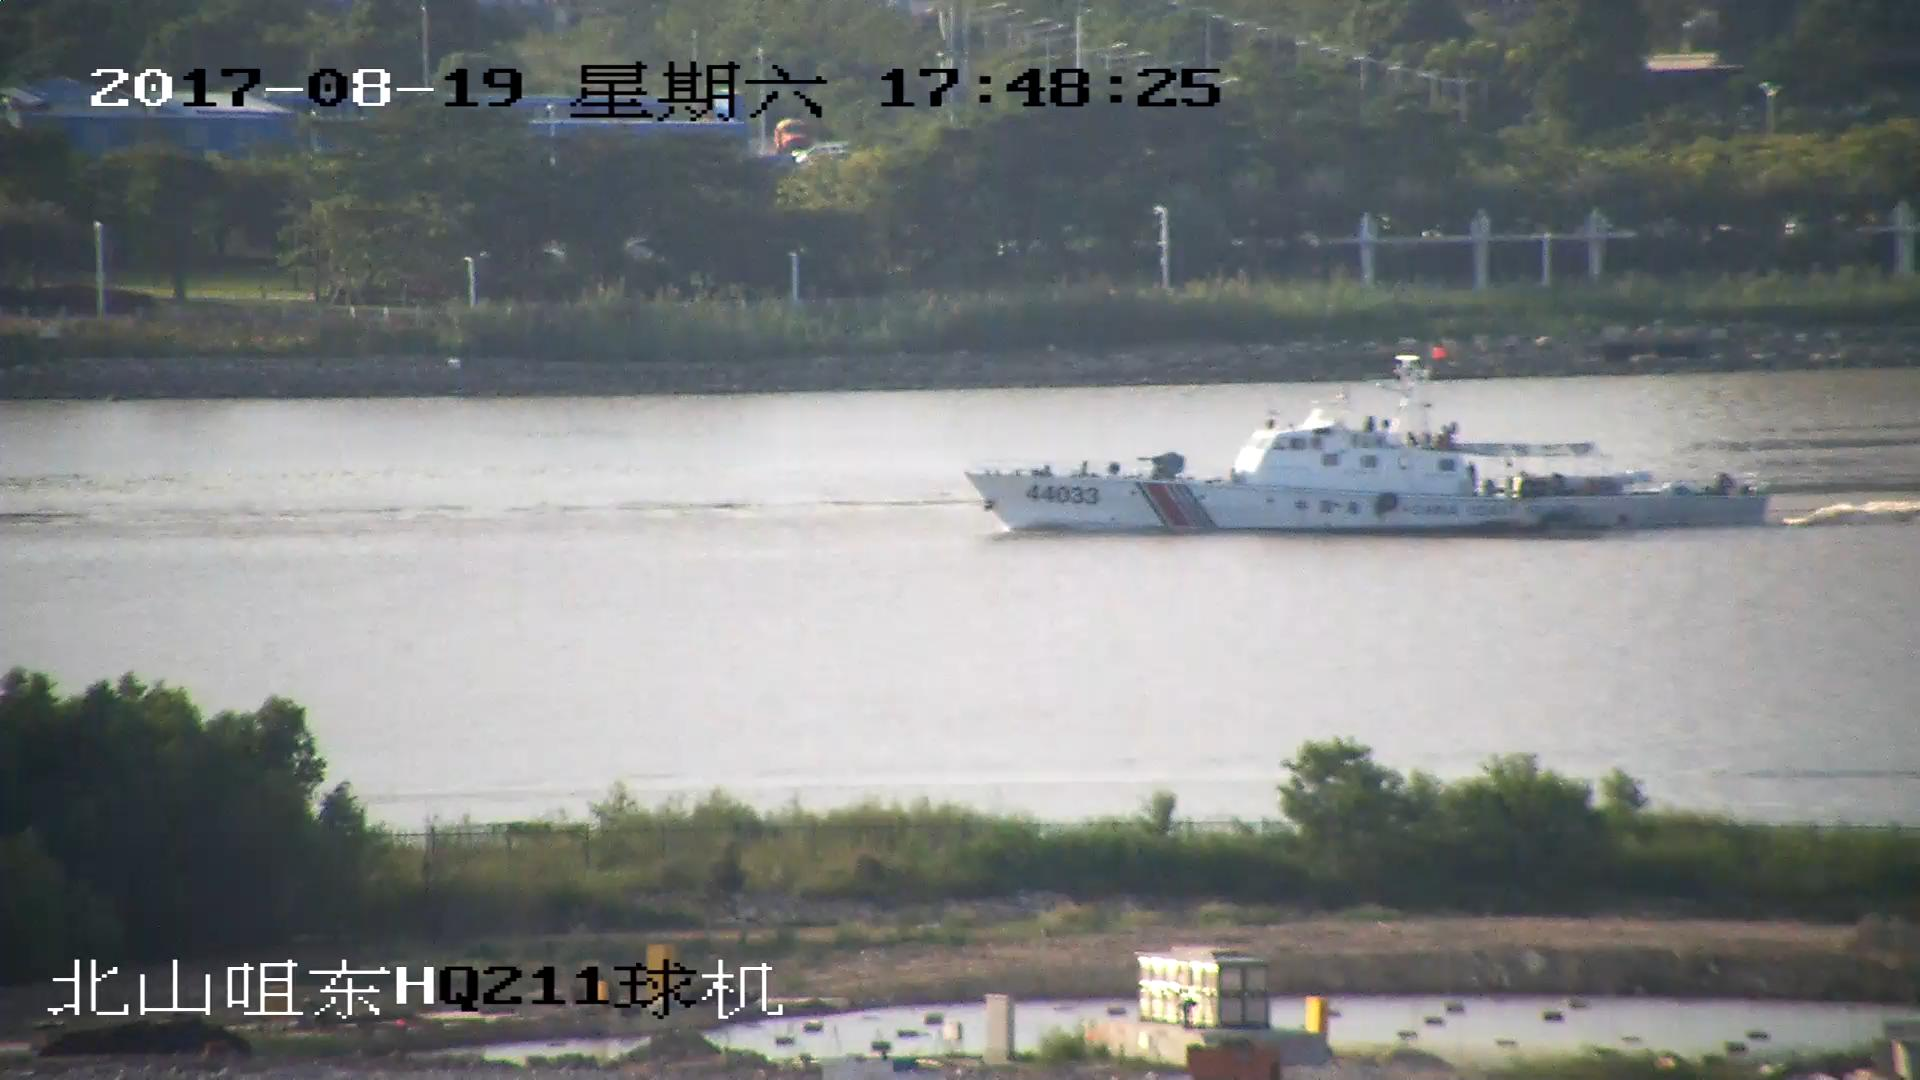passenger ship: (972, 354, 1766, 532)
